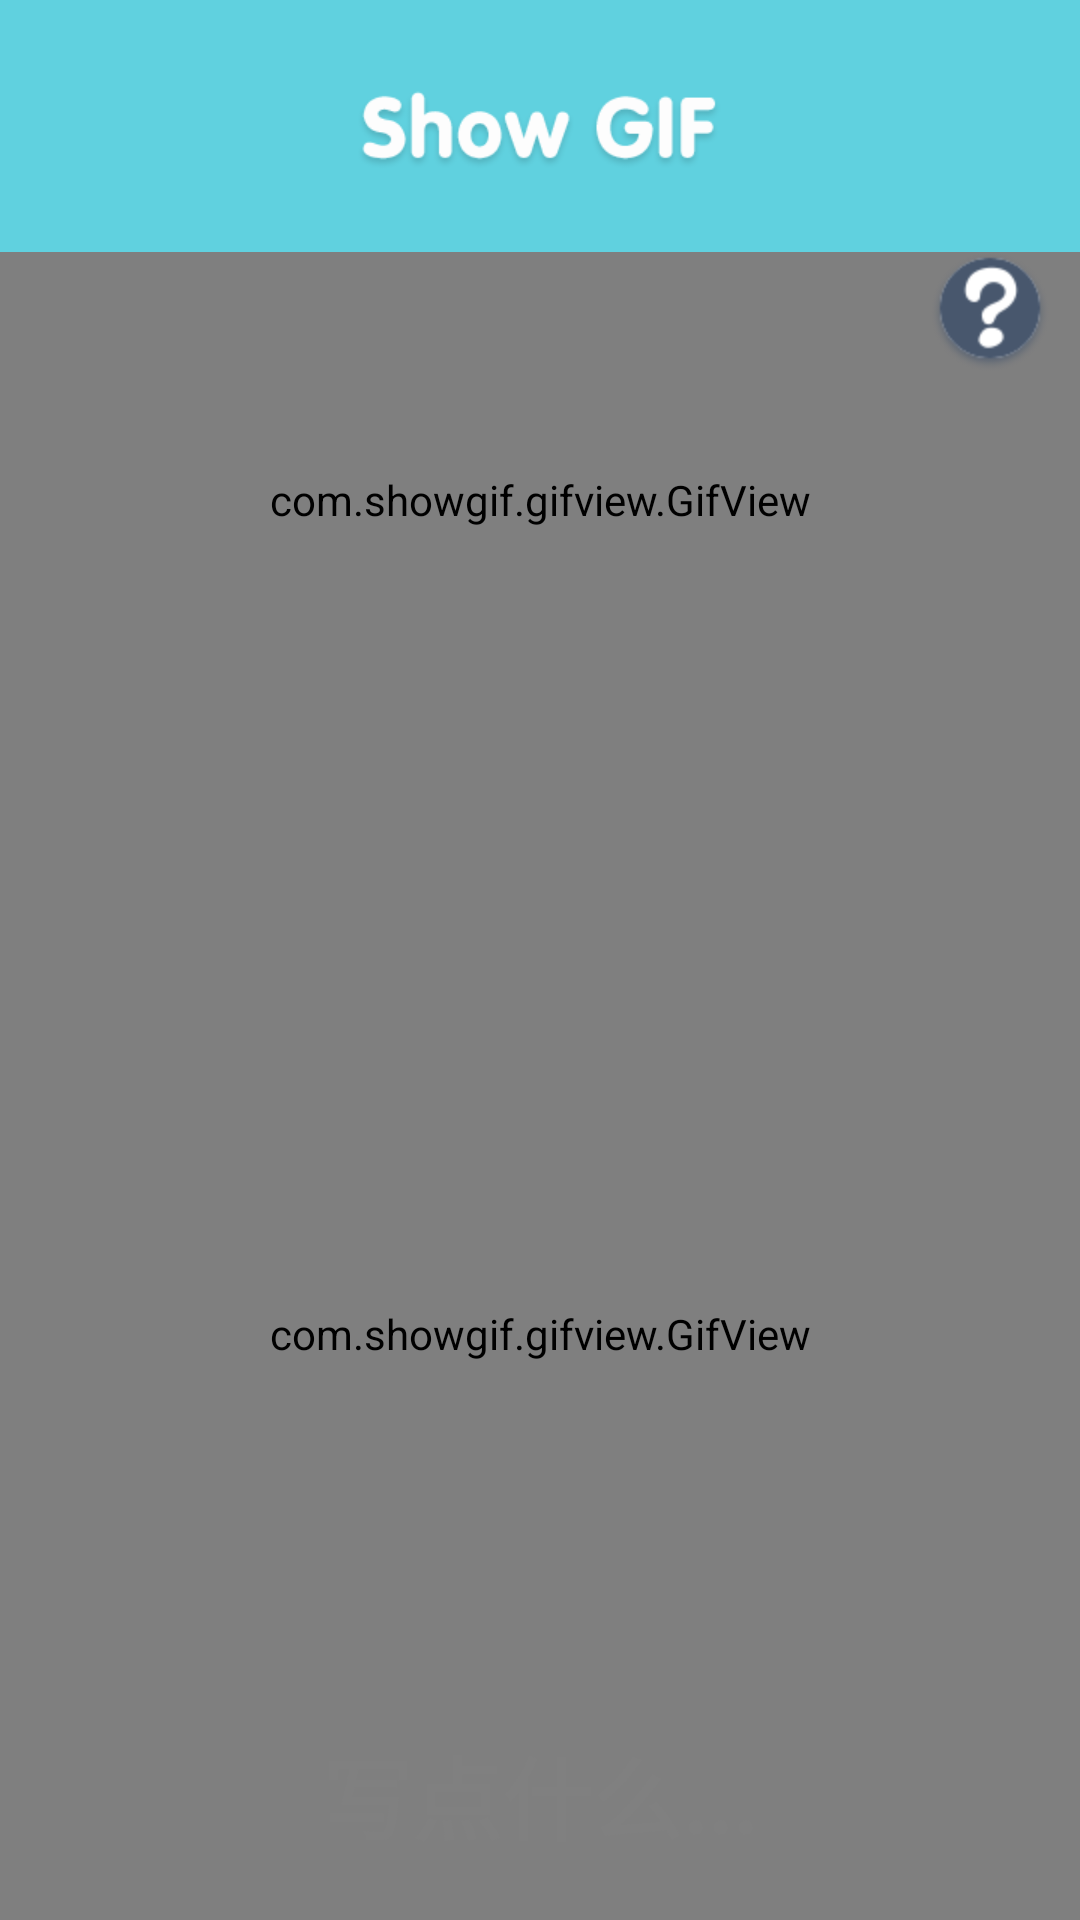

Named icons in this screenshot (1080 × 1920) and their centers, (x=x, y=y):
wenhao: (x=990, y=309)
